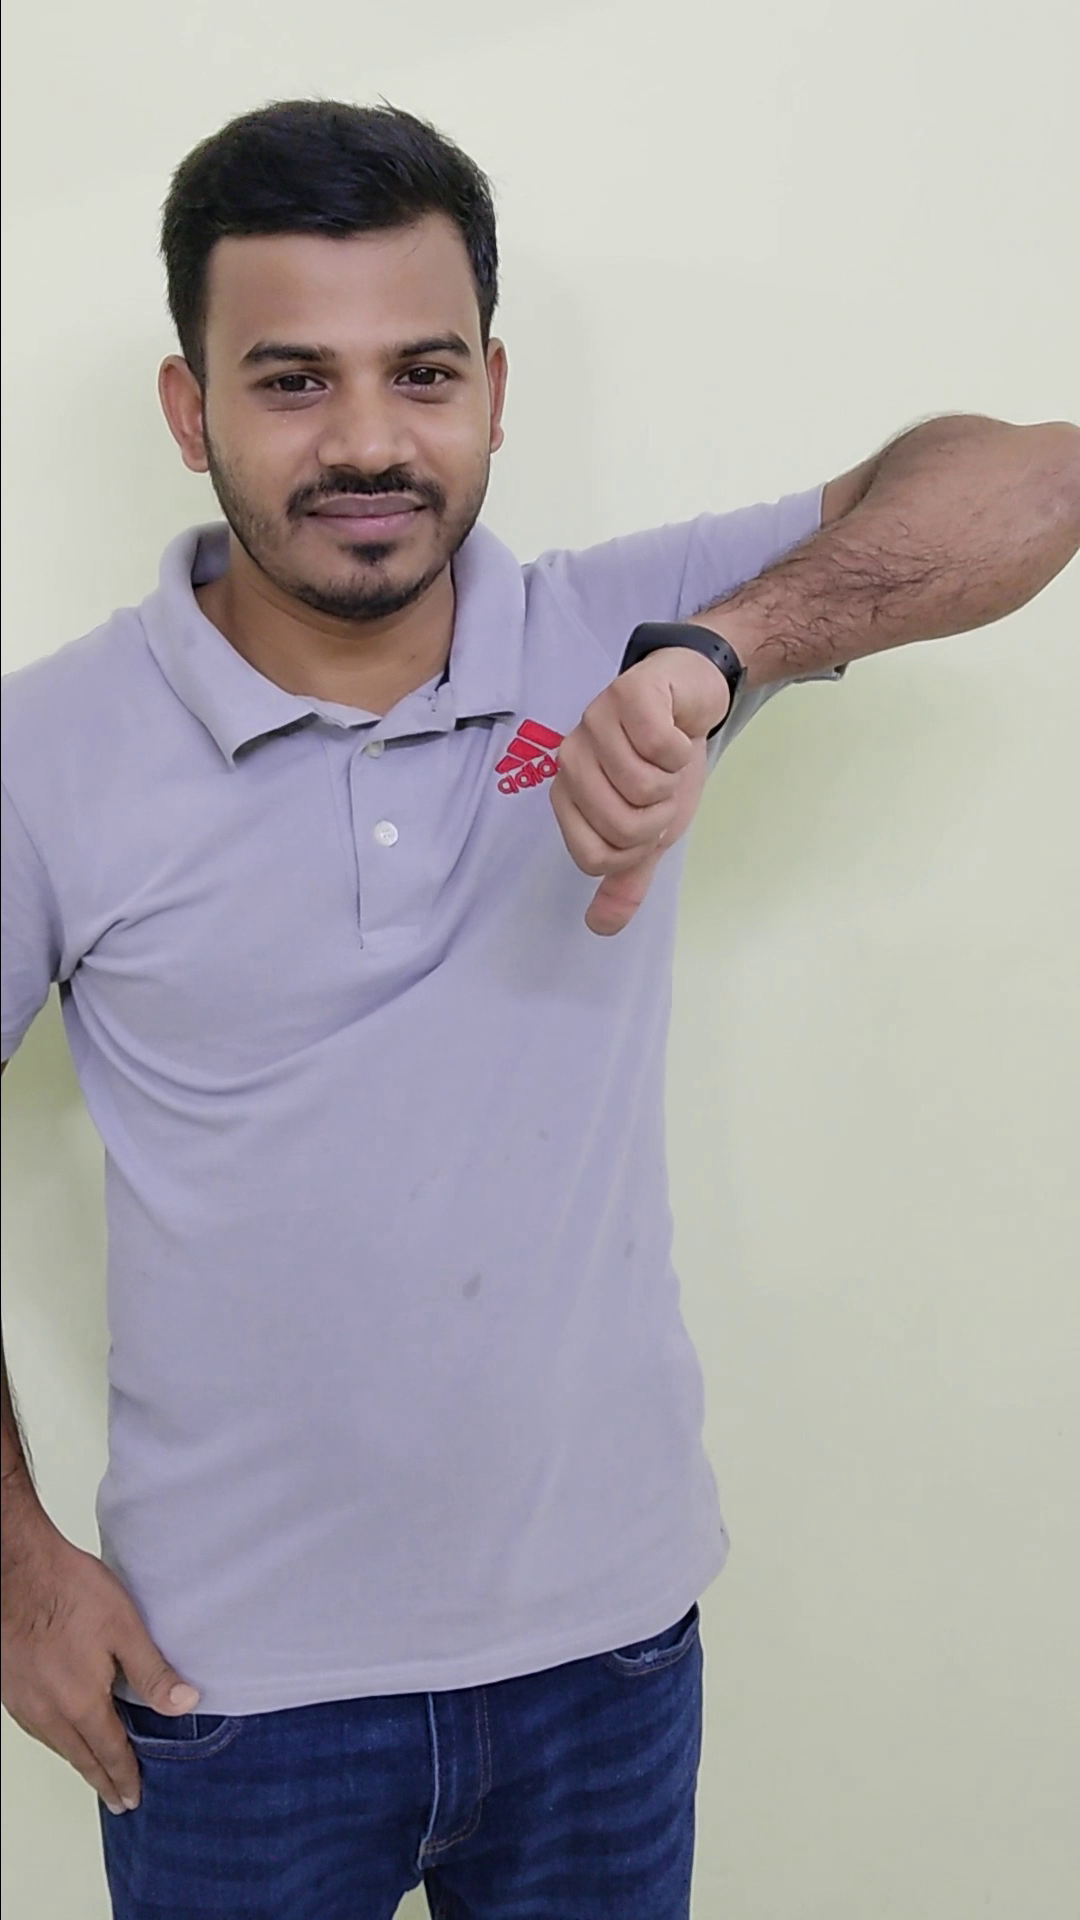Dislike: (520, 595, 771, 949)
None: (0, 1502, 222, 1826)
